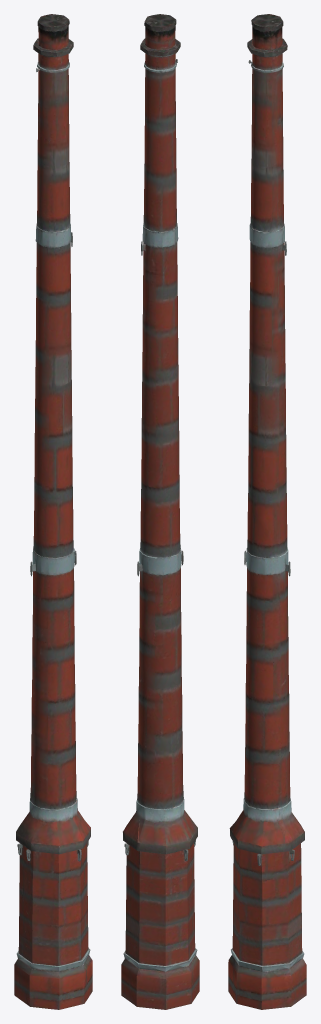
Rendered from industrial_chimney__sprite.glb.
3 renders of one model, left to right at view 1: azimuth 30°, elevation 25°; view 2: azimuth 210°, elevation 25°; view 3: azimuth 330°, elevation 25°, orthographic.
Parts seen in each view (by area): view 1: main; view 2: main; view 3: main.
Boxes of the visible parts, x1,y1,x2,y2 form: main: (14,14,92,1009); main: (121,14,199,1009); main: (228,14,306,1009).
Size of the model in its own units: 2.05 by 30 by 2.06.
Materials: 1 (1 with a texture image).
